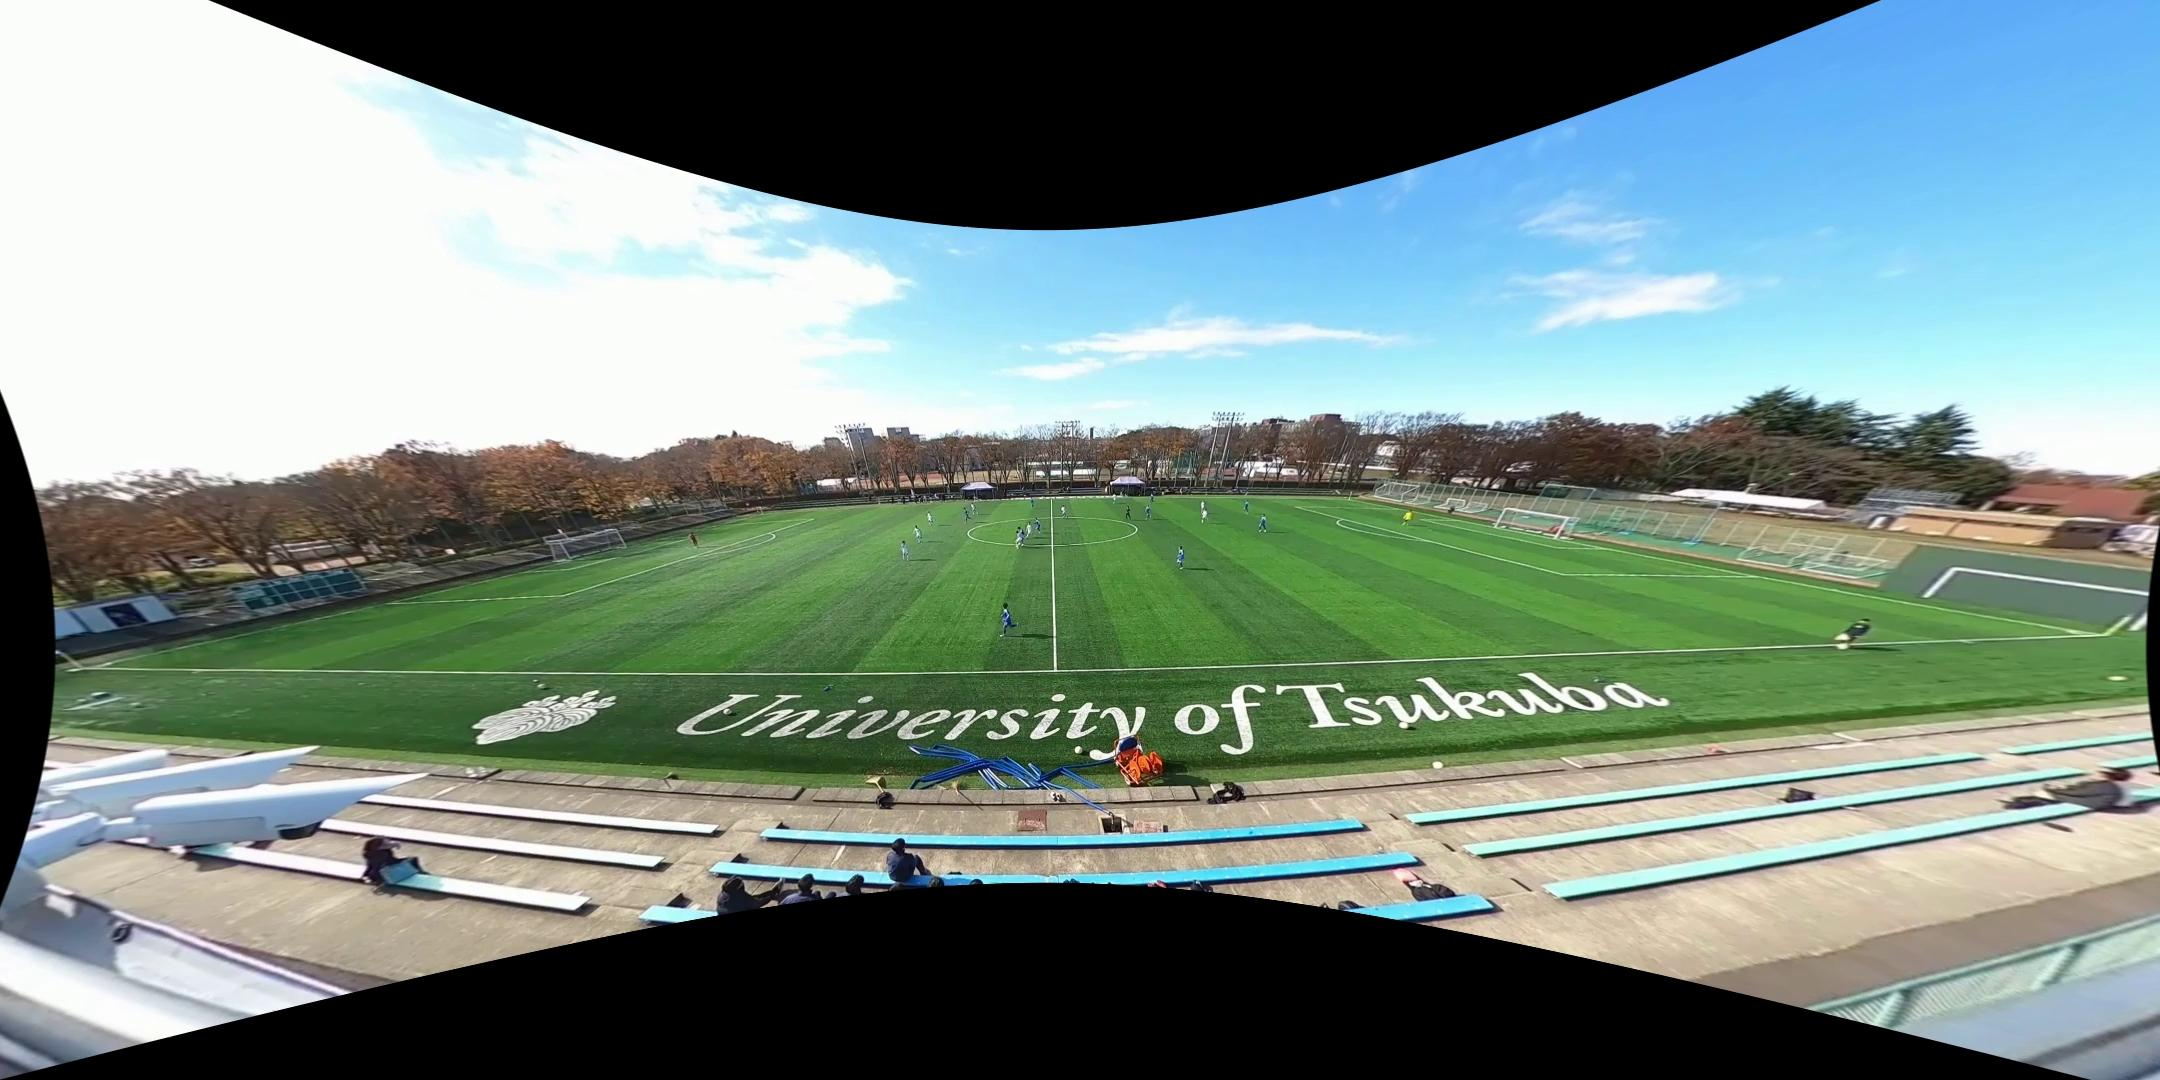person: (1832, 614, 1869, 649), (998, 602, 1021, 638), (686, 530, 703, 550), (1175, 545, 1185, 569), (1400, 509, 1413, 527), (900, 540, 912, 559), (925, 509, 937, 527), (912, 525, 924, 543), (1257, 514, 1269, 532), (969, 502, 982, 516), (1017, 527, 1026, 545), (962, 507, 972, 523), (1024, 522, 1034, 538), (1144, 504, 1153, 521), (1033, 517, 1042, 533), (1014, 531, 1021, 549), (1243, 500, 1251, 515), (1060, 505, 1068, 519), (1201, 509, 1208, 524), (1200, 500, 1208, 513), (1125, 506, 1132, 520), (1149, 493, 1157, 504), (1029, 498, 1035, 510), (1112, 492, 1117, 504)
sports ball: (538, 681, 546, 690)
